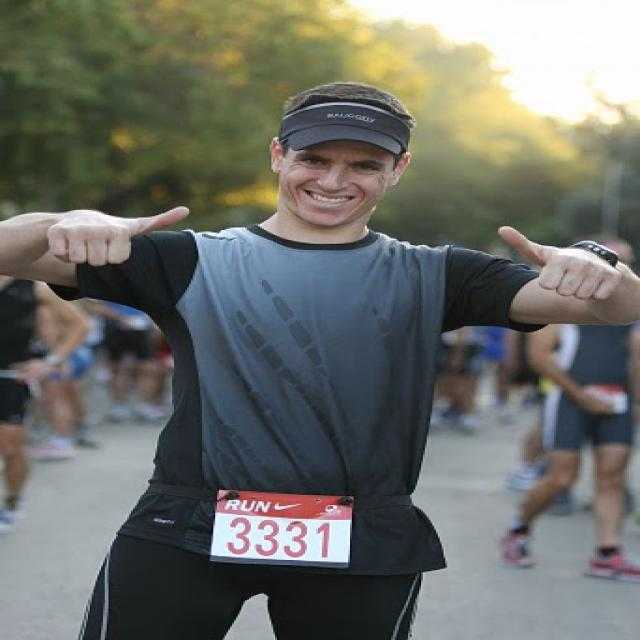Bib: (224, 518, 333, 562)
